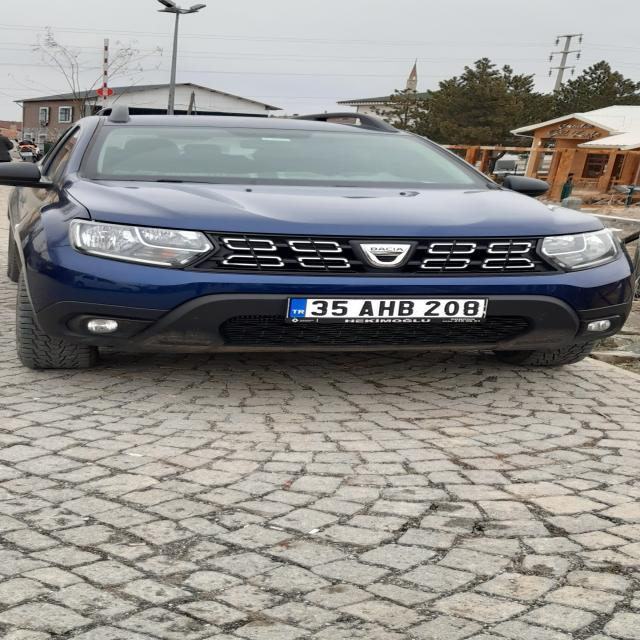plate: (288, 298, 486, 318)
